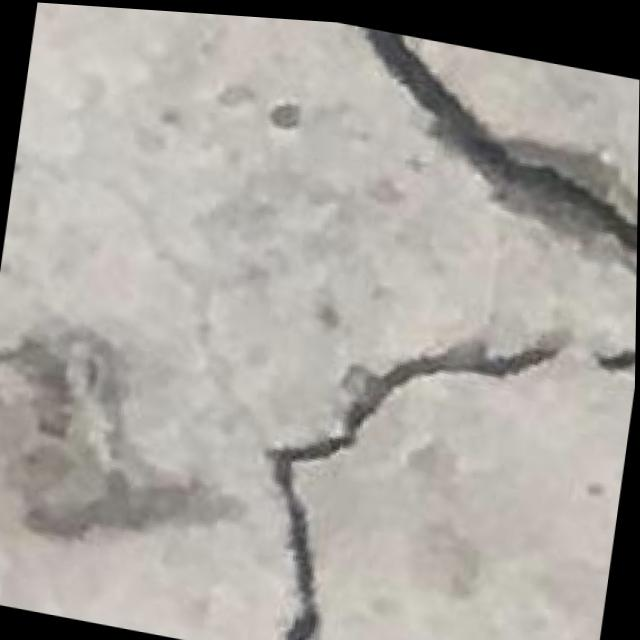Crack: (216, 253, 637, 640)
